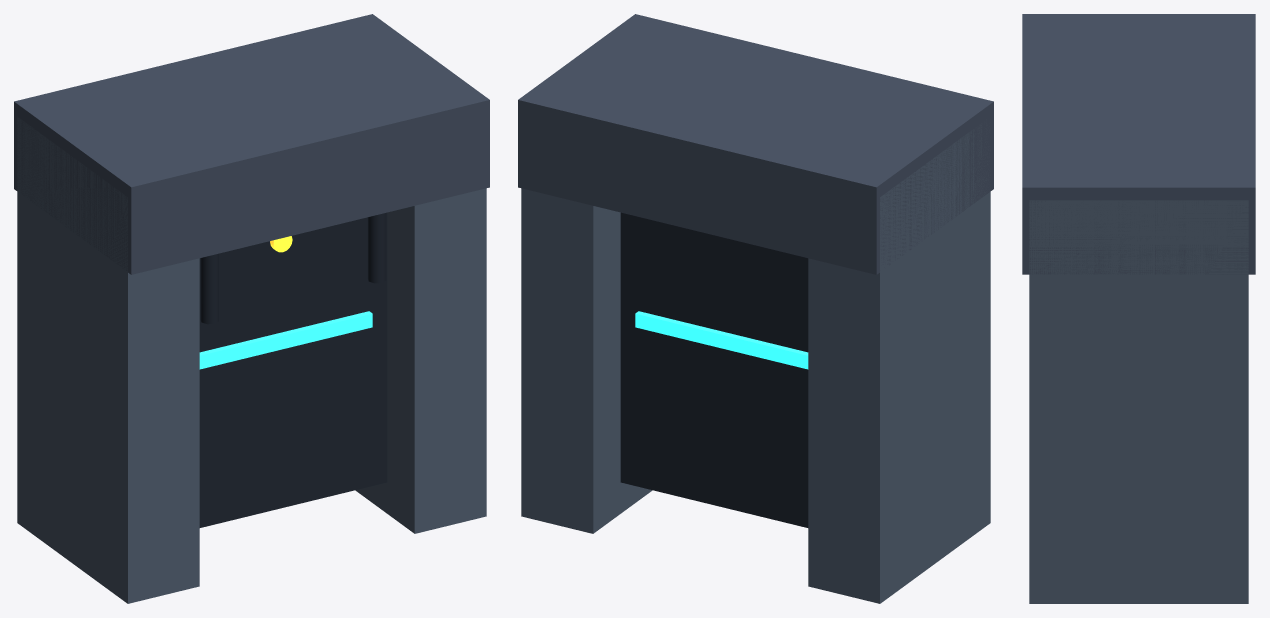
The model's file is door_bulkhead.glb.
3 renders of one model, left to right at view 1: azimuth 30°, elevation 25°; view 2: azimuth 150°, elevation 25°; view 3: azimuth 270°, elevation 25°, orthographic.
Parts seen in each view (by area): view 1: Security_Bulkhead_Gate_System, Sliding_Slab; view 2: Security_Bulkhead_Gate_System, Sliding_Slab; view 3: Security_Bulkhead_Gate_System.
Part boxes in pixels (x1,y1,x2,y2): Security_Bulkhead_Gate_System: (14, 14, 489, 603); Sliding_Slab: (199, 212, 387, 527); Security_Bulkhead_Gate_System: (518, 14, 993, 603); Sliding_Slab: (620, 212, 808, 527); Security_Bulkhead_Gate_System: (1022, 14, 1255, 603).
Bounding box in the file's own units: 6 × 6.7 × 3.4.
